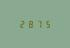eight: (26, 20, 33, 28)
five: (42, 20, 49, 28)
seven: (34, 20, 41, 28)
two: (18, 20, 25, 28)
